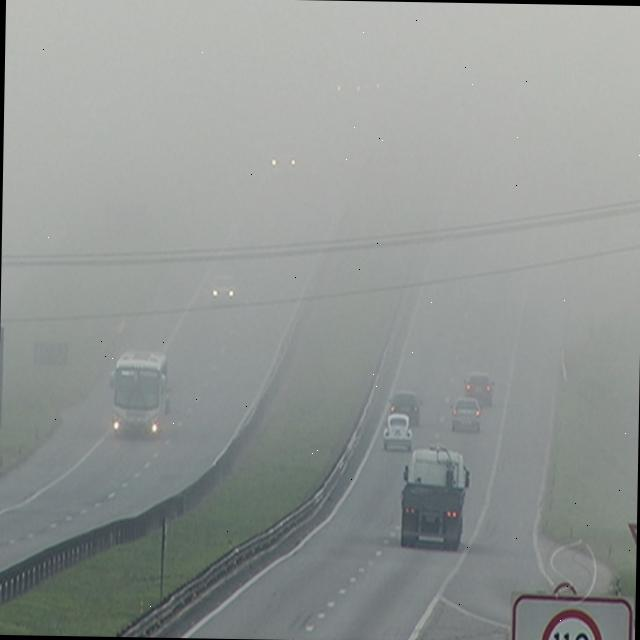bus: (401, 446, 471, 550)
car: (386, 388, 421, 424), (449, 397, 482, 433), (463, 371, 495, 408), (383, 412, 412, 452), (208, 272, 238, 304)
truck: (110, 348, 167, 436)
